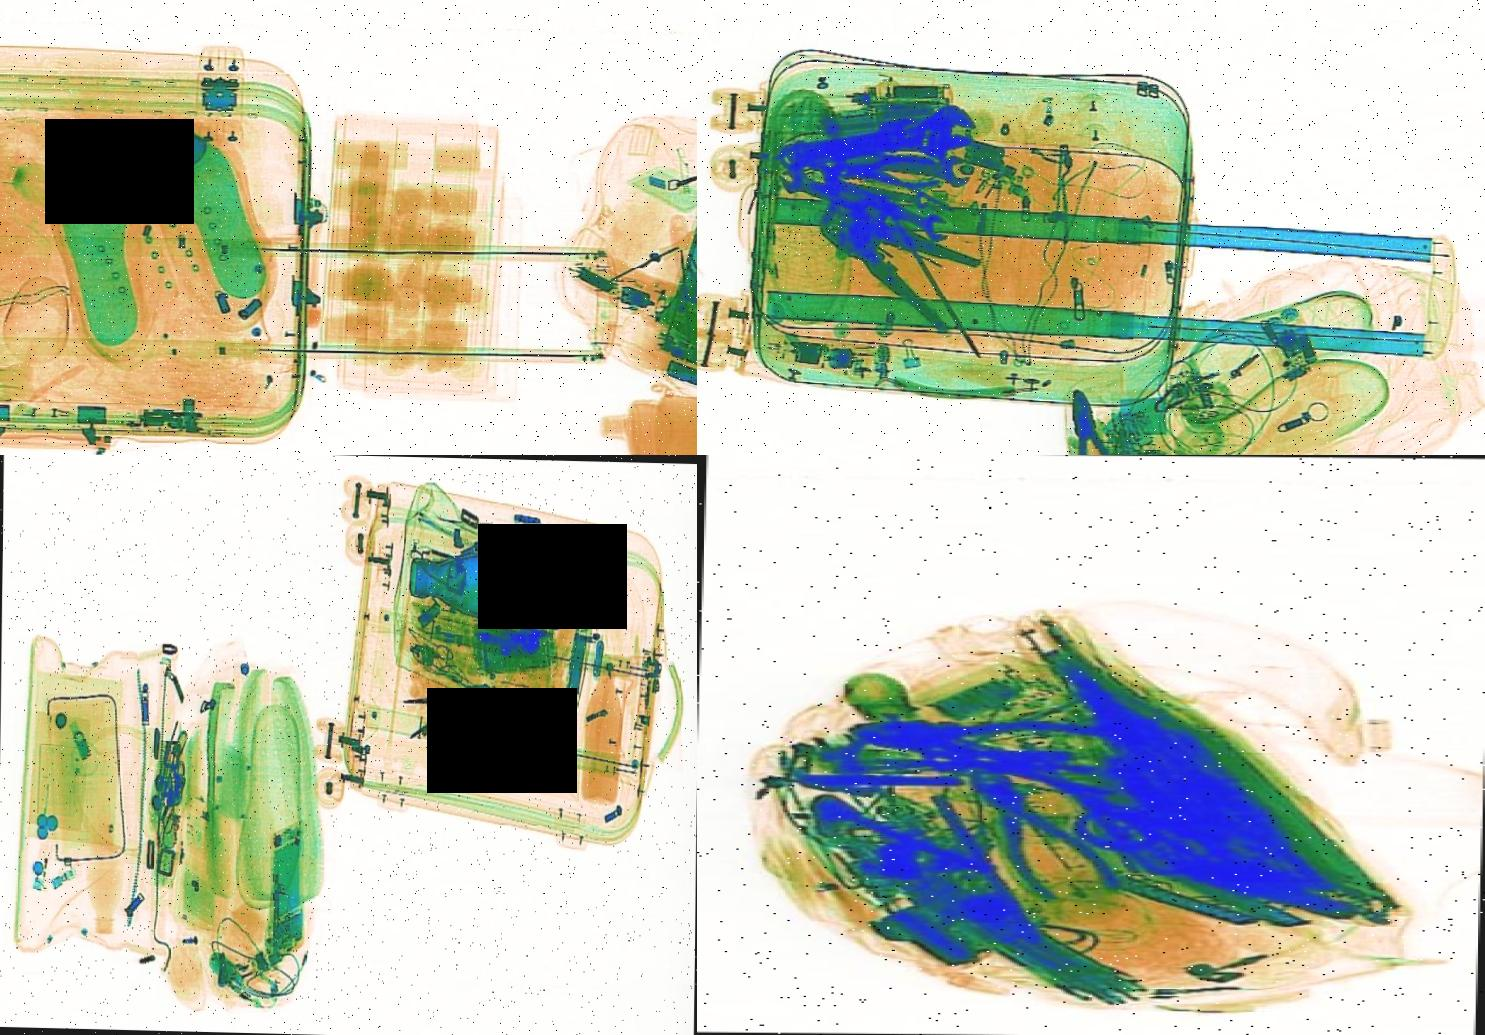Pliers: (838, 690, 1142, 799), (934, 750, 1134, 913), (777, 194, 1004, 336), (387, 667, 504, 741), (1058, 385, 1127, 455)
Wrench: (772, 96, 988, 185), (822, 174, 959, 242)
